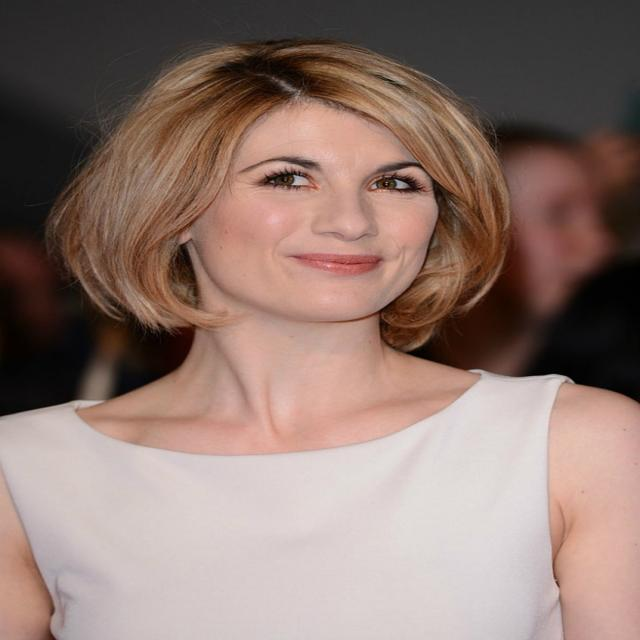mobile_phonerotation: (1, 35, 637, 638)
